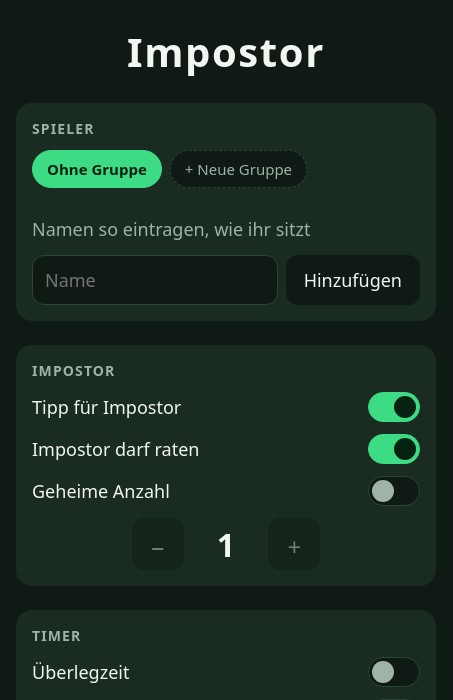
Scenario: SetupScreen › aktiviert Start erst ab 3 Spielern und zeigt die Fehlermeldung
Type "Anna" into the field labelled "Name".
click(155, 280); type("Anna")  # box [32,255,278,305]
Then press Enter
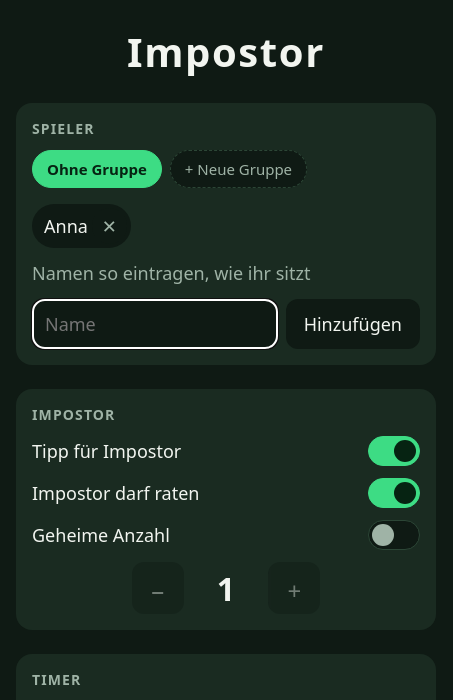
Type "Ben" into the field labelled "Name".
click(155, 324); type("Ben")  # box [32,299,278,349]
Then press Enter
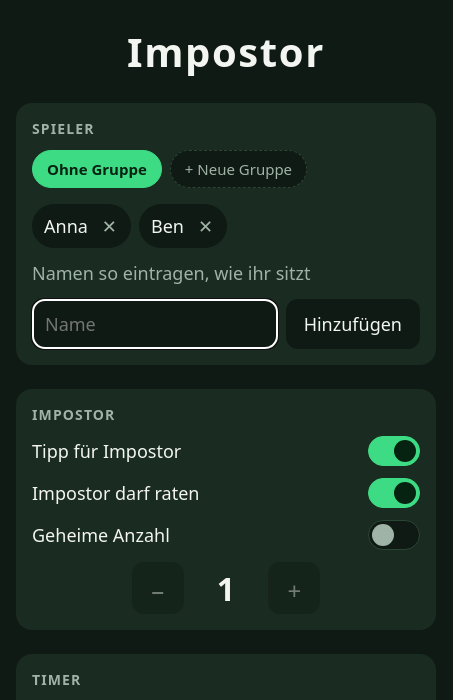
Type "Cem" into the field labelled "Name".
click(155, 324); type("Cem")  # box [32,299,278,349]
Then press Enter
(page scrolled)
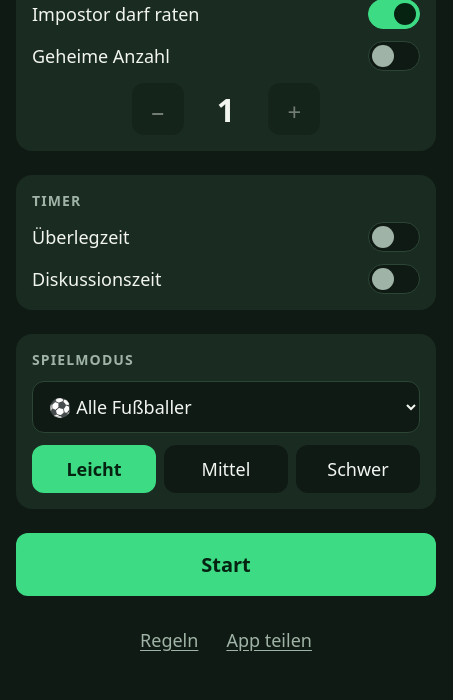
Expected: the button "Start" is enabled, [16,533,436,596]
